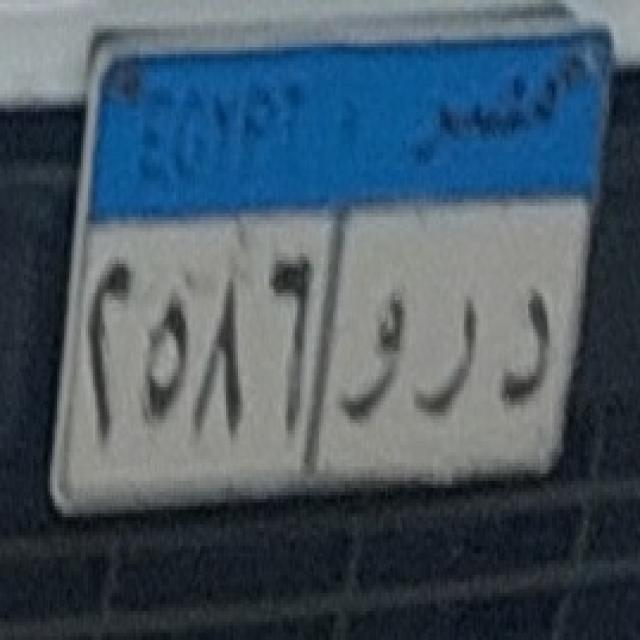2: (72, 247, 141, 453)
5: (141, 282, 203, 426)
6: (254, 248, 330, 446)
8: (190, 270, 258, 456)
R: (412, 277, 482, 430)
Wow: (340, 274, 406, 433)
daal: (493, 272, 562, 423)
